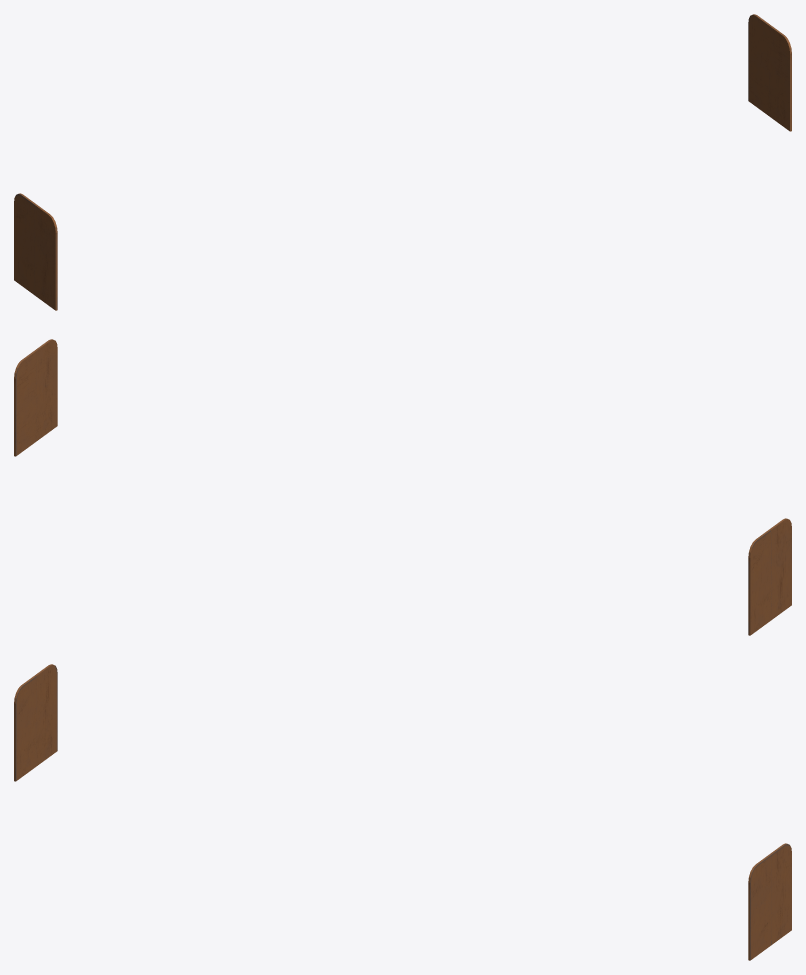
File: Door_Lobby_LB.fbx
3 renders of one model, top to bottom at view 1: azimuth 30°, elevation 25°; view 2: azimuth 150°, elevation 25°; view 3: azimuth 330°, elevation 25°, orthographic.
Parts seen in each view (by area): view 1: Door_Lobby_RA, Door_Lobby_LA, Door_Lobby_RB, Door_Lobby_LB; view 2: Door_Lobby_RB, Door_Lobby_LB, Door_Lobby_RA, Door_Lobby_LA; view 3: Door_Lobby_LA, Door_Lobby_RA, Door_Lobby_LB, Door_Lobby_RB.
Boxes of the visible parts, bbox=[...] form: Door_Lobby_RA: bbox=[769, 25, 791, 131]; Door_Lobby_LA: bbox=[35, 204, 57, 310]; Door_Lobby_RB: bbox=[748, 14, 770, 115]; Door_Lobby_LB: bbox=[14, 193, 36, 295]; Door_Lobby_RB: bbox=[14, 350, 36, 456]; Door_Lobby_LB: bbox=[748, 529, 770, 635]; Door_Lobby_RA: bbox=[35, 339, 57, 440]; Door_Lobby_LA: bbox=[769, 518, 791, 620]; Door_Lobby_LA: bbox=[14, 675, 36, 781]; Door_Lobby_RA: bbox=[748, 854, 770, 960]; Door_Lobby_LB: bbox=[35, 664, 57, 765]; Door_Lobby_RB: bbox=[769, 843, 791, 945].
Bounding box in the file's own units: 23.27 × 2.29 × 2.74.
Materials: 4 (4 with a texture image).
